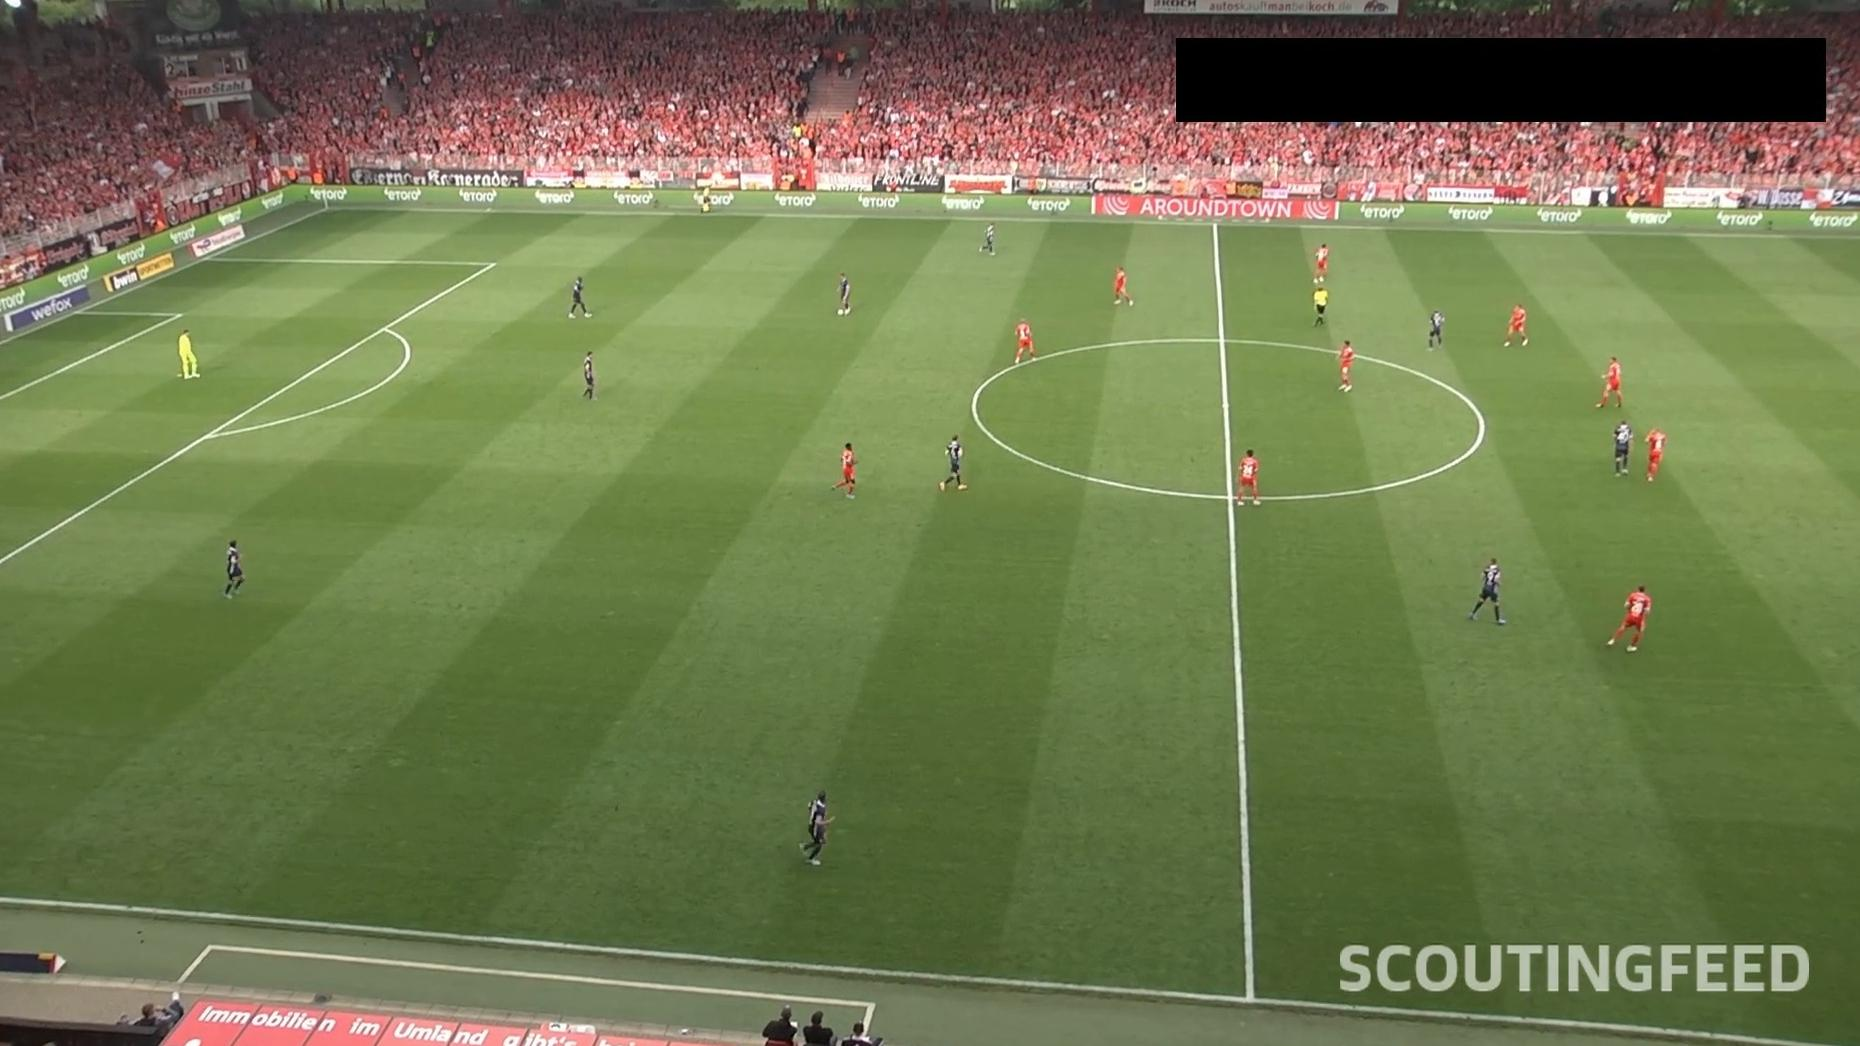ball: (837, 307, 846, 317)
